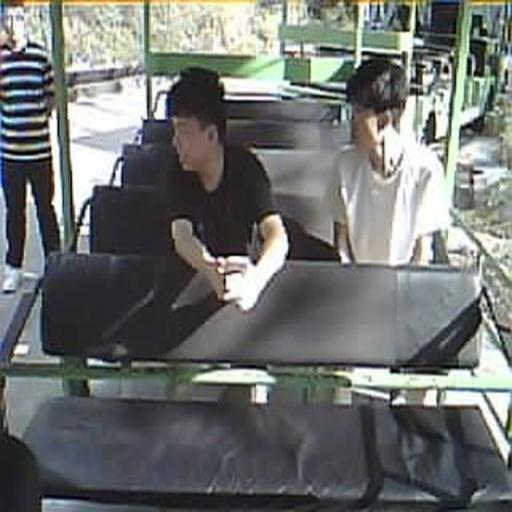persona: (157, 65, 290, 314), (326, 57, 452, 267)
